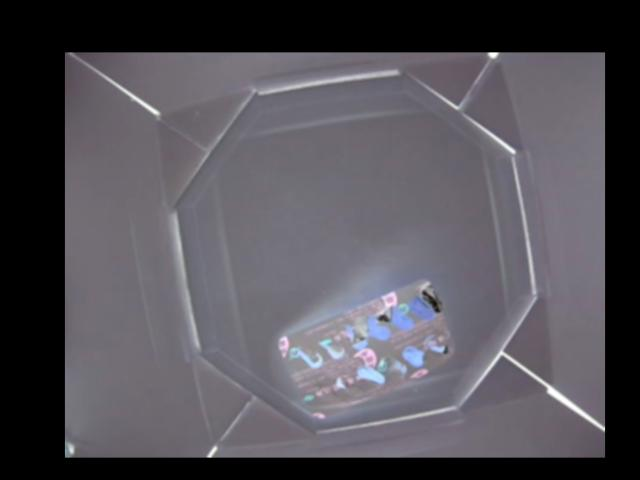Medicine: (270, 278, 451, 418)
